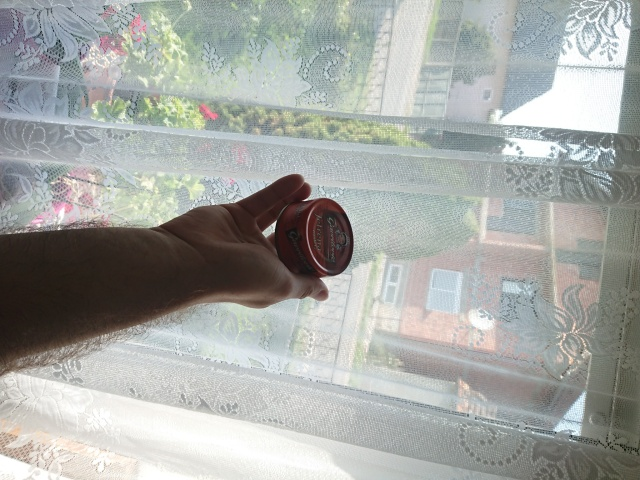Gavrilovic Pork Liver Pate 100g: (272, 195, 355, 281)
